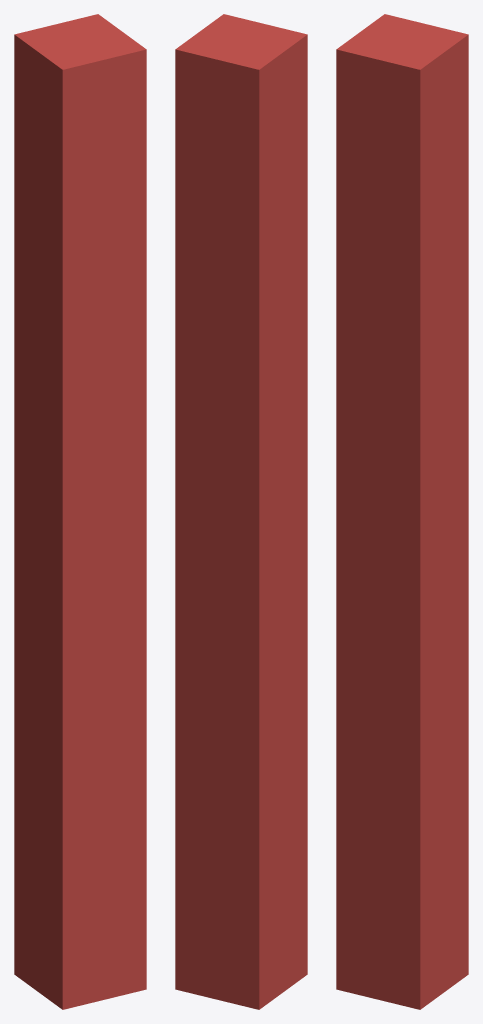
Rendered from Pillar_7B.fbx.
3 renders of one model, left to right at view 1: azimuth 30°, elevation 25°; view 2: azimuth 150°, elevation 25°; view 3: azimuth 330°, elevation 25°, orthographic.
Visible parts, largest first — view 1: pCube101; view 2: pCube101; view 3: pCube101.
Part boxes in pixels (x1,y1,x2,y2): pCube101: (14,14,146,1009); pCube101: (175,14,307,1009); pCube101: (336,14,468,1009).
Size of the model in its own units: 0.75 by 8.03 by 0.75.
1 material, 1 textured.
